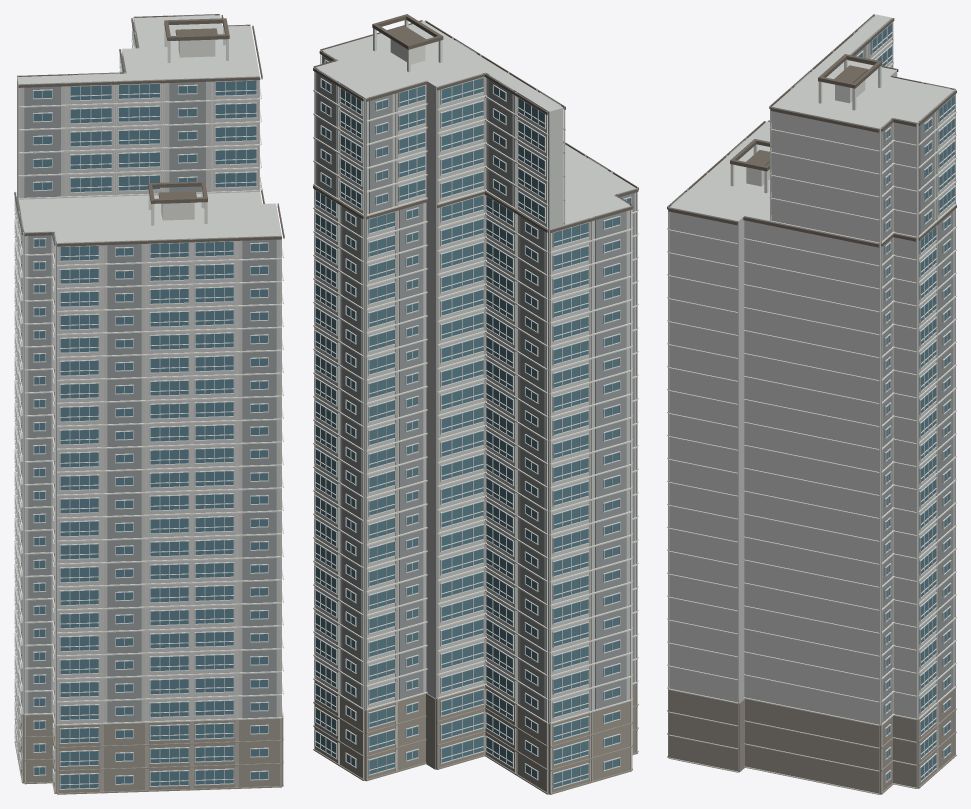
Rendered from bespoke-banpo-xi-124.glb.
The picture shows the model from 3 angles, left to right: view 1: azimuth 30°, elevation 25°; view 2: azimuth 150°, elevation 25°; view 3: azimuth 270°, elevation 25°; orthographic projection. The views are drawn at different scales.
Parts seen in each view (by area): view 1: editable_BX124_pale_silver_limestone, editable_BX124_blue_grey_broad_glazing, editable_BX124_grey_service_core, editable_BX124_white_window_frames, editable_BX124_ivory_course_bands, editable_BX124_warm_ground_stone, editable_BX124_dark_coping; view 2: editable_BX124_blue_grey_broad_glazing, editable_BX124_pale_silver_limestone, editable_BX124_white_window_frames, editable_BX124_grey_service_core, editable_BX124_ivory_course_bands, editable_BX124_warm_ground_stone, editable_BX124_dark_coping; view 3: editable_BX124_pale_silver_limestone, editable_BX124_ivory_course_bands, editable_BX124_warm_ground_stone, editable_BX124_grey_service_core, editable_BX124_white_window_frames, editable_BX124_blue_grey_broad_glazing, editable_BX124_dark_coping.
Part boxes in pixels (<box>): editable_BX124_pale_silver_limestone: <box>17,15,281,793</box>; editable_BX124_blue_grey_broad_glazing: <box>16,37,267,788</box>; editable_BX124_grey_service_core: <box>20,14,276,723</box>; editable_BX124_white_window_frames: <box>14,28,268,789</box>; editable_BX124_ivory_course_bands: <box>14,14,283,793</box>; editable_BX124_warm_ground_stone: <box>14,696,283,794</box>; editable_BX124_dark_coping: <box>14,14,284,246</box>; editable_BX124_blue_grey_broad_glazing: <box>315,61,630,787</box>; editable_BX124_pale_silver_limestone: <box>315,21,636,793</box>; editable_BX124_white_window_frames: <box>314,59,631,789</box>; editable_BX124_grey_service_core: <box>317,40,634,720</box>; editable_BX124_ivory_course_bands: <box>313,20,638,794</box>; editable_BX124_warm_ground_stone: <box>313,681,638,794</box>; editable_BX124_dark_coping: <box>313,14,638,232</box>; editable_BX124_pale_silver_limestone: <box>669,14,954,788</box>; editable_BX124_ivory_course_bands: <box>667,14,956,794</box>; editable_BX124_warm_ground_stone: <box>667,688,956,794</box>; editable_BX124_grey_service_core: <box>670,16,953,722</box>; editable_BX124_white_window_frames: <box>771,22,955,783</box>; editable_BX124_blue_grey_broad_glazing: <box>857,23,954,781</box>; editable_BX124_dark_coping: <box>667,14,956,247</box>.
Size of the model in its own units: 33 by 81.3 by 30.9.
